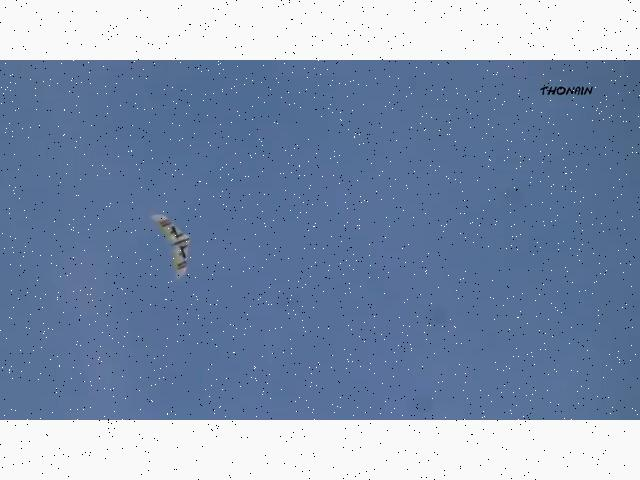Anti-Drone: (144, 203, 192, 287)
